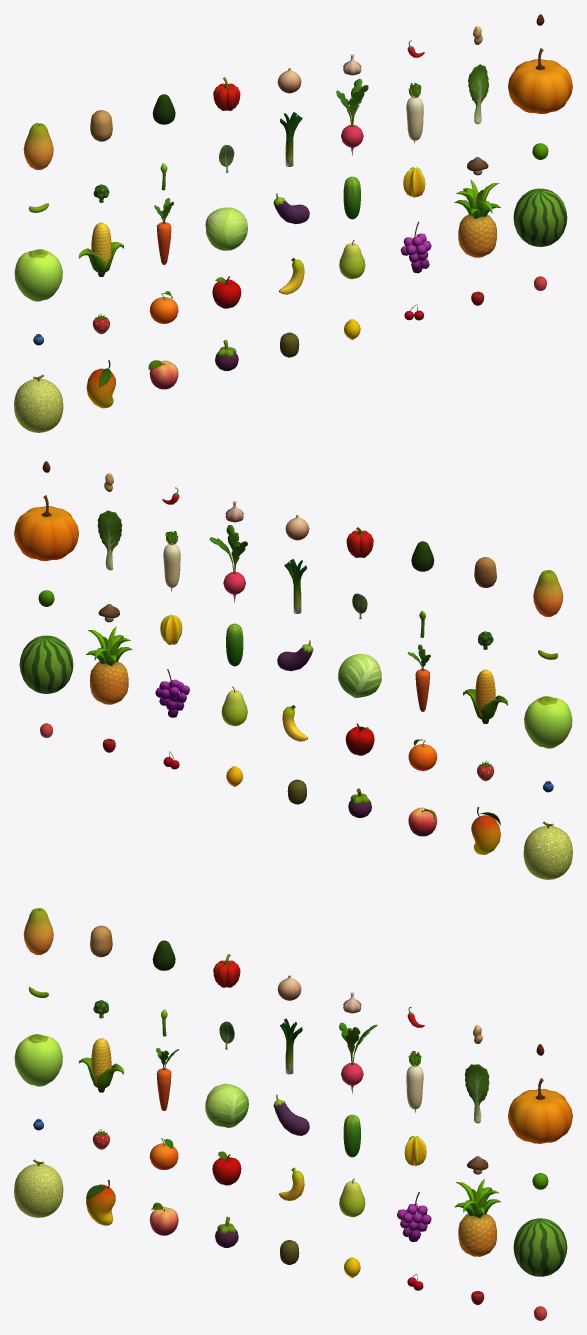
3 renders of one model, top to bottom at view 1: azimuth 30°, elevation 25°; view 2: azimuth 150°, elevation 25°; view 3: azimuth 330°, elevation 25°, orthographic.
Parts seen in each view (by area): view 1: Fruits_and_vegetables_20, Fruits_and_vegetables_38, Fruits_and_vegetables_37, Fruits_and_vegetables_39, Fruits_and_vegetables_21, Fruits_and_vegetables_24, Fruits_and_vegetables_22, Fruits_and_vegetables_3, Fruits_and_vegetables_17, Fruits_and_vegetables_40, Fruits_and_vegetables_36, Fruits_and_vegetables_18 (+13 smaller); view 2: Fruits_and_vegetables_20, Fruits_and_vegetables_38, Fruits_and_vegetables_37, Fruits_and_vegetables_39, Fruits_and_vegetables_21, Fruits_and_vegetables_24, Fruits_and_vegetables_22, Fruits_and_vegetables_3, Fruits_and_vegetables_40, Fruits_and_vegetables_17, Fruits_and_vegetables_19, Fruits_and_vegetables_36 (+13 smaller); view 3: Fruits_and_vegetables_20, Fruits_and_vegetables_38, Fruits_and_vegetables_37, Fruits_and_vegetables_39, Fruits_and_vegetables_21, Fruits_and_vegetables_24, Fruits_and_vegetables_22, Fruits_and_vegetables_3, Fruits_and_vegetables_40, Fruits_and_vegetables_17, Fruits_and_vegetables_19, Fruits_and_vegetables_36 (+13 smaller).
Part boxes in pixels (<box>): Fruits_and_vegetables_20: <box>508,48,572,113</box>; Fruits_and_vegetables_38: <box>513,188,567,246</box>; Fruits_and_vegetables_37: <box>454,179,500,257</box>; Fruits_and_vegetables_39: <box>14,374,63,432</box>; Fruits_and_vegetables_21: <box>14,249,62,301</box>; Fruits_and_vegetables_24: <box>205,207,247,250</box>; Fruits_and_vegetables_22: <box>78,222,123,276</box>; Fruits_and_vegetables_3: <box>23,123,53,169</box>; Fruits_and_vegetables_17: <box>336,78,368,155</box>; Fruits_and_vegetables_40: <box>86,360,115,408</box>; Fruits_and_vegetables_36: <box>400,221,431,273</box>; Fruits_and_vegetables_18: <box>406,83,423,144</box>; Fruits_and_vegetables_20: <box>14,495,78,560</box>; Fruits_and_vegetables_38: <box>19,635,73,693</box>; Fruits_and_vegetables_37: <box>86,626,132,704</box>; Fruits_and_vegetables_39: <box>523,821,572,879</box>; Fruits_and_vegetables_21: <box>524,696,572,748</box>; Fruits_and_vegetables_24: <box>338,654,381,697</box>; Fruits_and_vegetables_22: <box>463,669,508,723</box>; Fruits_and_vegetables_3: <box>533,570,563,616</box>; Fruits_and_vegetables_40: <box>471,807,500,854</box>; Fruits_and_vegetables_17: <box>209,525,247,602</box>; Fruits_and_vegetables_19: <box>97,510,122,570</box>; Fruits_and_vegetables_36: <box>155,669,189,717</box>; Fruits_and_vegetables_20: <box>508,1078,572,1143</box>; Fruits_and_vegetables_38: <box>513,1218,567,1276</box>; Fruits_and_vegetables_37: <box>454,1179,500,1256</box>; Fruits_and_vegetables_39: <box>14,1159,63,1217</box>; Fruits_and_vegetables_21: <box>14,1034,62,1086</box>; Fruits_and_vegetables_24: <box>205,1083,248,1127</box>; Fruits_and_vegetables_22: <box>79,1038,123,1092</box>; Fruits_and_vegetables_3: <box>23,908,53,954</box>; Fruits_and_vegetables_40: <box>86,1180,115,1225</box>; Fruits_and_vegetables_17: <box>339,1022,377,1093</box>; Fruits_and_vegetables_19: <box>464,1064,489,1123</box>; Fruits_and_vegetables_36: <box>397,1192,431,1241</box>.
Size of the model in its own units: 691 by 367 by 68.44.
